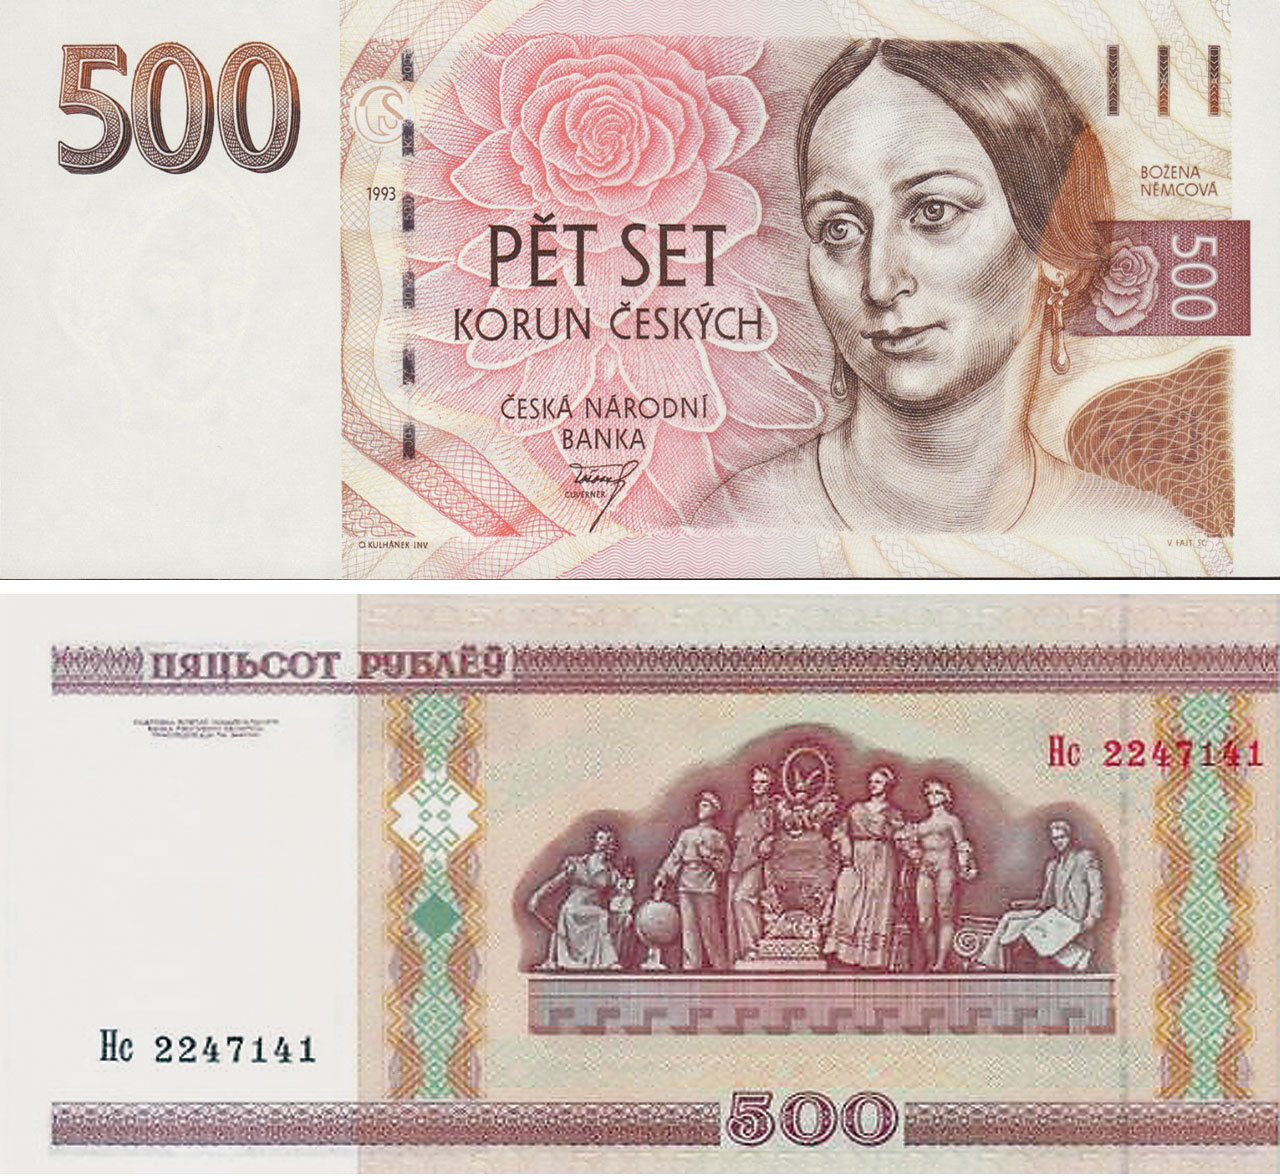belarus_ruble_500: (16, 608, 1280, 1164)
czech_koruna_500: (1, 10, 1280, 570)
